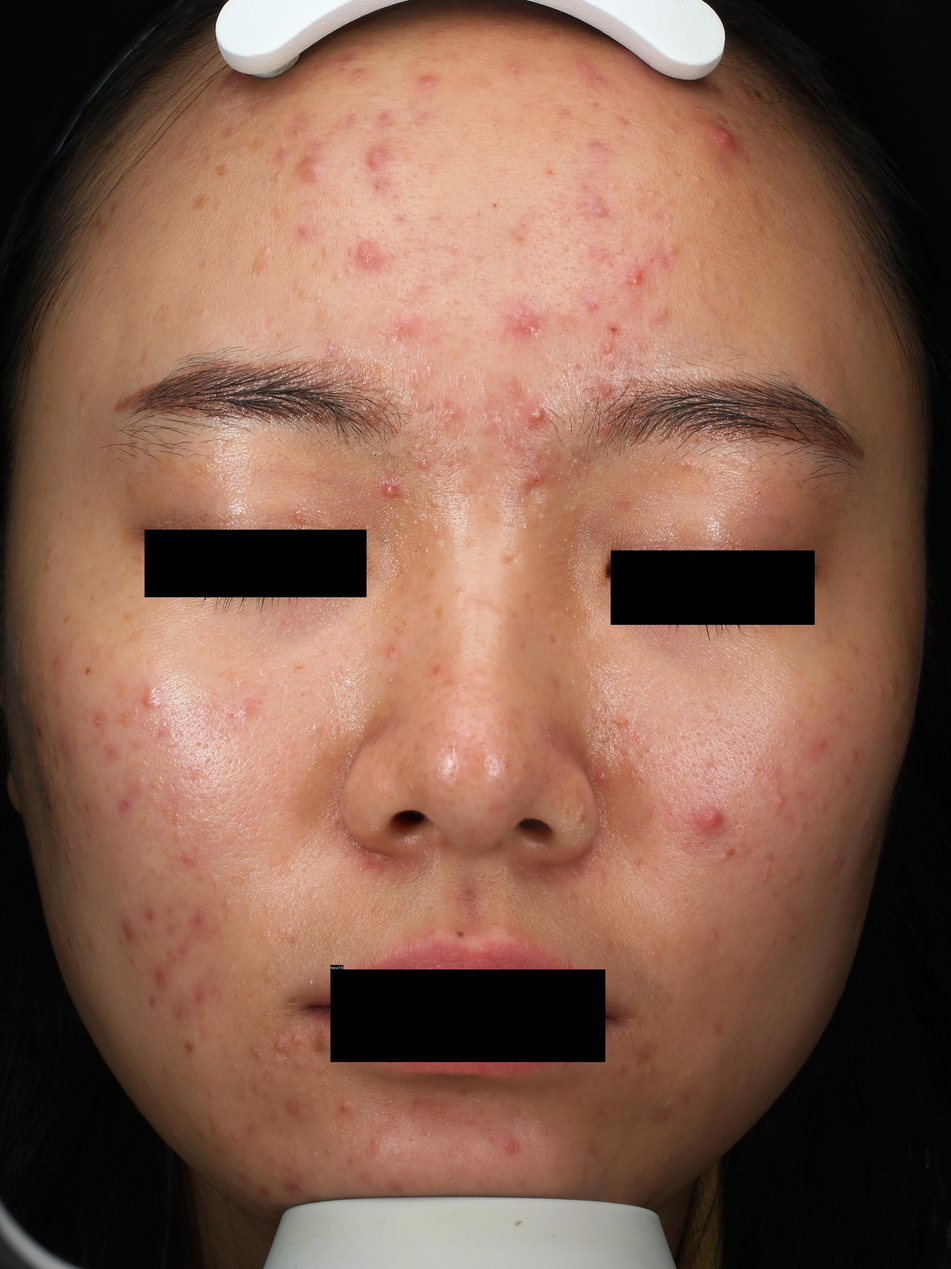atrophic_scar: (502, 555, 514, 563), (740, 732, 749, 740), (725, 740, 734, 747), (476, 255, 485, 261), (171, 783, 176, 790), (205, 758, 211, 763), (196, 741, 201, 746), (229, 759, 234, 764), (575, 364, 580, 369), (245, 746, 251, 750), (684, 899, 688, 904), (203, 744, 208, 748), (410, 1139, 413, 1142)
closed_comedo: (263, 969, 273, 980), (206, 1086, 214, 1099), (734, 298, 743, 307), (263, 246, 271, 256), (427, 365, 434, 376), (276, 927, 284, 936), (372, 1137, 380, 1146), (322, 248, 332, 255), (694, 261, 702, 269), (78, 408, 86, 416), (143, 932, 151, 940), (619, 118, 626, 127), (670, 247, 677, 255), (532, 140, 540, 147), (78, 840, 83, 851), (694, 176, 701, 183), (561, 112, 568, 119), (610, 362, 615, 371), (610, 182, 616, 189), (410, 122, 417, 128), (392, 1150, 399, 1156), (42, 671, 46, 681), (523, 523, 529, 529), (538, 514, 544, 520), (336, 273, 342, 279), (276, 174, 282, 180), (721, 950, 727, 956), (711, 201, 718, 206), (314, 262, 322, 266), (426, 1131, 432, 1136), (721, 855, 726, 861), (298, 893, 304, 898), (48, 748, 52, 755), (225, 900, 229, 907), (311, 1091, 315, 1098), (650, 191, 655, 196), (203, 308, 208, 313), (161, 722, 166, 727), (573, 459, 577, 465), (416, 444, 420, 450), (69, 781, 73, 787), (213, 875, 217, 881), (880, 688, 884, 694), (521, 498, 525, 503), (414, 369, 418, 374), (317, 299, 321, 304), (538, 500, 542, 504), (571, 506, 575, 510), (565, 445, 569, 449), (68, 844, 72, 848), (266, 910, 270, 914), (539, 543, 542, 548), (76, 802, 79, 807), (459, 590, 463, 593), (573, 615, 576, 619), (42, 707, 45, 711), (67, 810, 70, 814), (389, 678, 393, 681), (553, 367, 557, 370), (588, 900, 591, 904), (893, 689, 895, 694), (254, 1087, 257, 1090), (296, 131, 299, 134)
hypertrophic_scar: (273, 1054, 287, 1067), (232, 1062, 244, 1069), (740, 826, 746, 837), (625, 1111, 632, 1117), (688, 1070, 694, 1076)
melasma: (156, 448, 181, 475), (126, 476, 146, 500), (152, 304, 171, 325), (819, 629, 838, 648), (125, 626, 145, 644), (190, 462, 215, 476), (190, 193, 207, 212), (847, 639, 862, 657), (119, 563, 133, 580), (432, 603, 445, 621), (418, 591, 436, 604), (391, 623, 405, 639), (120, 611, 135, 625), (213, 164, 228, 178), (427, 565, 438, 580), (129, 555, 144, 564), (511, 609, 519, 622), (63, 613, 72, 624), (133, 568, 143, 577), (88, 594, 95, 601)
nevus: (84, 667, 91, 674), (457, 932, 463, 937)
open_comedo: (312, 724, 320, 733), (449, 244, 455, 251), (595, 440, 600, 447), (417, 403, 422, 410), (419, 515, 424, 521), (428, 169, 433, 174), (372, 957, 376, 962), (373, 452, 377, 457), (323, 217, 327, 221), (560, 136, 564, 140), (361, 967, 364, 972), (405, 501, 408, 505), (381, 333, 384, 337), (364, 118, 367, 122), (464, 447, 467, 450), (463, 456, 466, 459), (330, 342, 333, 345), (488, 1128, 491, 1131), (421, 132, 424, 135), (421, 1126, 423, 1129), (493, 123, 495, 126), (596, 224, 598, 226), (425, 566, 427, 568)
papule: (298, 159, 324, 182), (711, 126, 736, 149), (359, 242, 379, 268), (369, 148, 386, 168), (704, 812, 723, 828), (528, 471, 544, 487), (589, 203, 606, 217), (657, 306, 671, 321), (597, 419, 610, 435), (396, 322, 409, 337), (290, 1105, 306, 1117), (158, 968, 167, 987), (596, 770, 609, 783), (614, 716, 627, 729), (420, 76, 434, 88), (338, 1102, 350, 1114), (360, 404, 372, 415), (45, 793, 52, 811), (816, 736, 827, 747), (447, 407, 457, 419), (126, 922, 133, 939), (776, 793, 785, 806), (240, 706, 248, 720), (603, 386, 613, 397), (508, 1142, 518, 1153), (146, 697, 156, 707), (616, 1065, 625, 1076), (506, 385, 516, 394), (515, 441, 525, 450), (833, 853, 842, 863), (604, 342, 611, 354), (353, 70, 362, 79), (517, 400, 526, 409), (292, 1036, 301, 1045), (589, 302, 597, 311), (610, 325, 618, 334), (590, 143, 600, 150), (492, 417, 500, 425), (421, 460, 429, 468), (685, 461, 693, 469), (276, 1043, 284, 1051), (593, 77, 602, 84), (375, 183, 381, 193), (301, 228, 308, 236), (388, 646, 395, 654), (95, 717, 101, 725), (520, 220, 527, 226), (515, 412, 521, 418), (150, 998, 154, 1007), (232, 1134, 238, 1140), (710, 933, 715, 940), (382, 114, 387, 120), (579, 62, 584, 68), (419, 283, 424, 289), (266, 1073, 270, 1080), (178, 1011, 182, 1018), (197, 994, 202, 999), (763, 876, 767, 881), (511, 66, 515, 70), (244, 1163, 247, 1167), (661, 1115, 664, 1118)
pustule: (519, 317, 537, 331), (629, 272, 641, 285), (385, 487, 395, 496), (534, 409, 541, 420), (309, 980, 314, 986), (313, 1153, 316, 1156)
